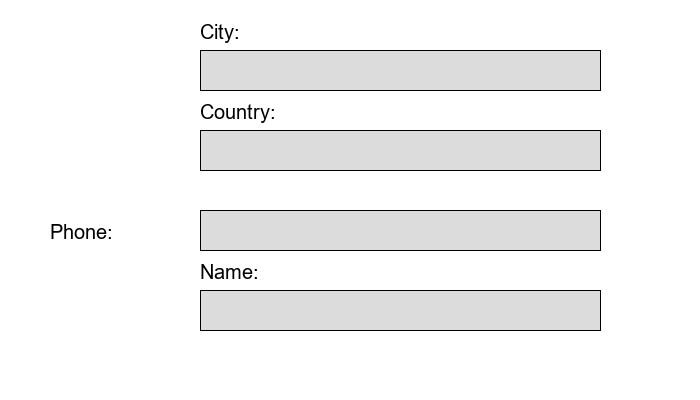Label: (200, 100, 270, 119), (50, 220, 107, 235), (200, 260, 253, 275), (200, 20, 234, 39)
Textbox: (200, 50, 600, 90), (200, 130, 600, 170), (200, 210, 600, 250), (200, 290, 600, 330)
